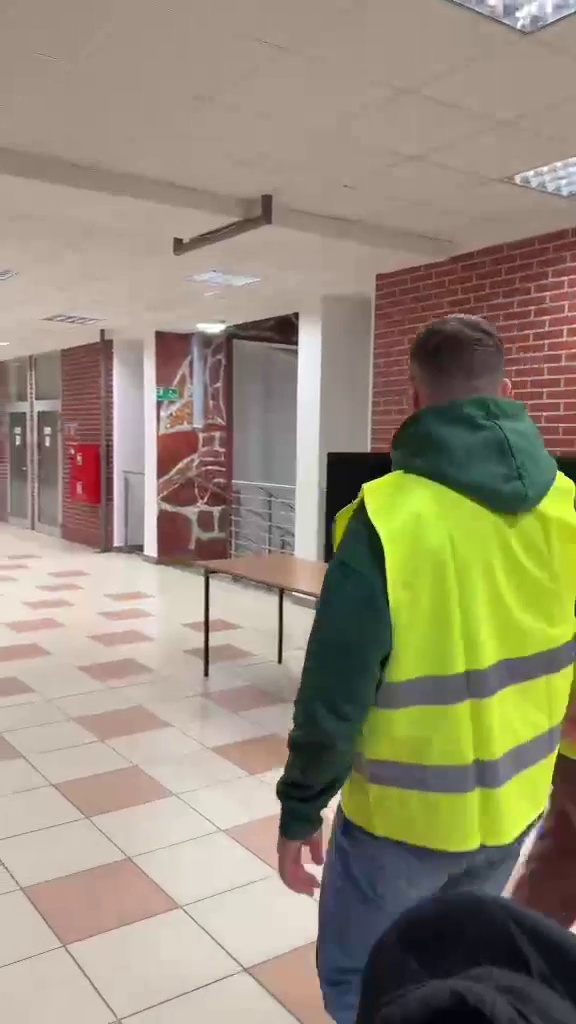vest: (283, 297, 574, 946)
